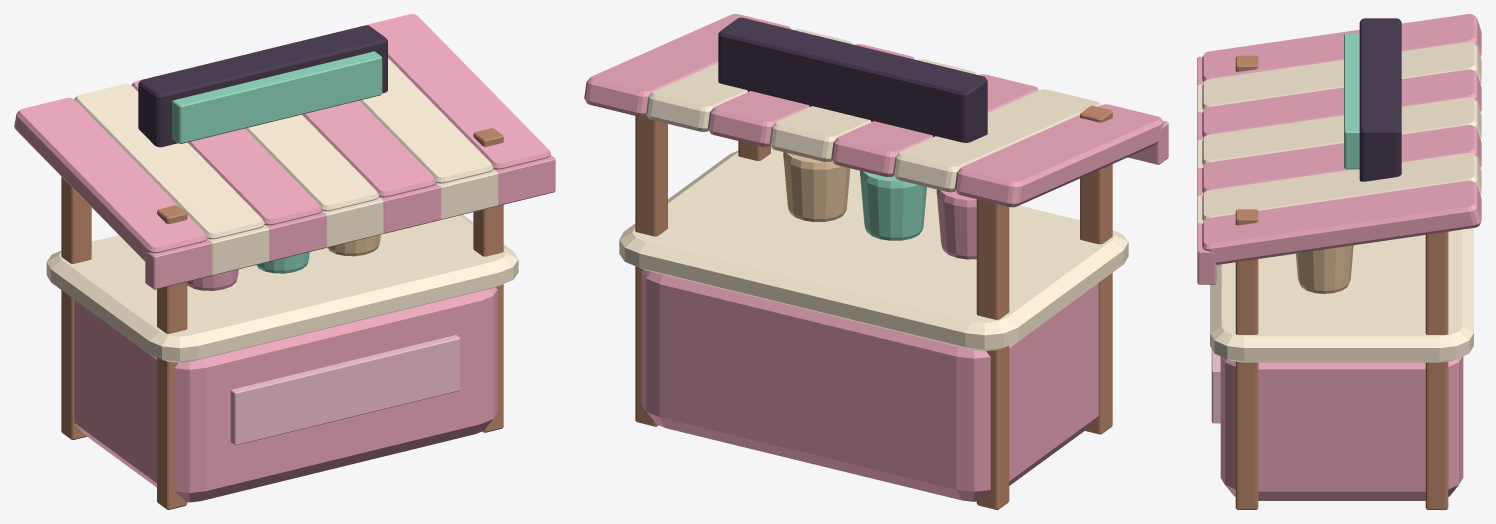
File: milk_tea_counter.glb
3 views of the same model, side by side, from view 1: azimuth 30°, elevation 25°; view 2: azimuth 150°, elevation 25°; view 3: azimuth 270°, elevation 25° (orthographic). The views are drawn at different scales.
Visible parts, largest first — view 1: model, awning, counter, sign_blank, sign_back; view 2: model, counter, awning, sign_back; view 3: awning, model, counter, sign_back, sign_blank.
Boxes of the visible parts, x1,y1,x2,y2 form: model: [46, 128, 555, 509]; awning: [14, 14, 550, 261]; counter: [74, 287, 497, 502]; sign_blank: [172, 51, 382, 143]; sign_back: [138, 25, 387, 147]; model: [619, 105, 1168, 509]; counter: [641, 270, 1098, 501]; awning: [584, 14, 1163, 207]; sign_back: [718, 17, 987, 142]; awning: [1202, 14, 1481, 264]; model: [1197, 55, 1473, 509]; counter: [1220, 356, 1463, 500]; sign_back: [1359, 18, 1401, 181]; sign_blank: [1344, 33, 1359, 169].
Size of the model in its own units: 1.3 by 1.1 by 0.8.
